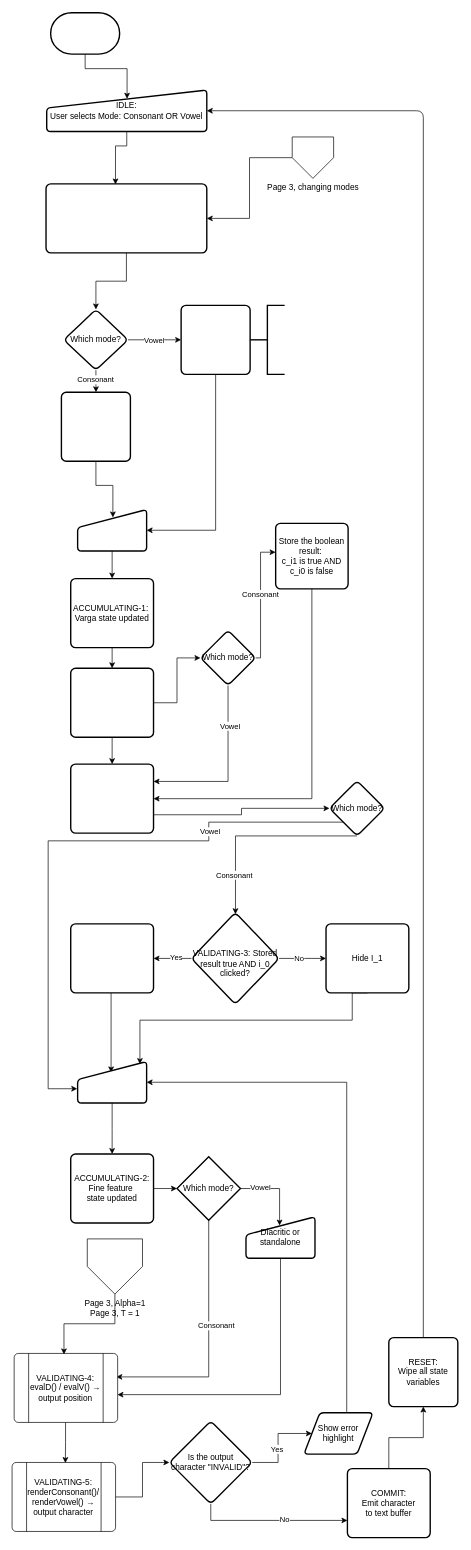
This 471x1550 diagram has some shape labels left out. Each missing label, with the box of its shape:
Hereafter stated as a "varga": (249, 304, 285, 375)
Reset both Consonant AND Vowel states: (45, 183, 207, 253)
Show I_1 checkbox: (70, 923, 154, 993)
Show varga radios: (60, 391, 131, 462)
Show vowel grouping radios: (180, 304, 250, 375)
Start: (50, 12, 120, 55)
User [re]selects a varga: (77, 509, 147, 551)
User ticks fine feature: (77, 1061, 147, 1103)
VALIDATING-1: findCoarseValidity(): (70, 667, 154, 738)
VALIDATING-2: Show ALL fine features: (70, 763, 154, 834)
